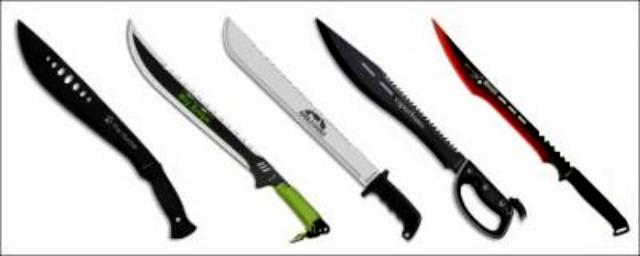long knife: (214, 22, 416, 228)
